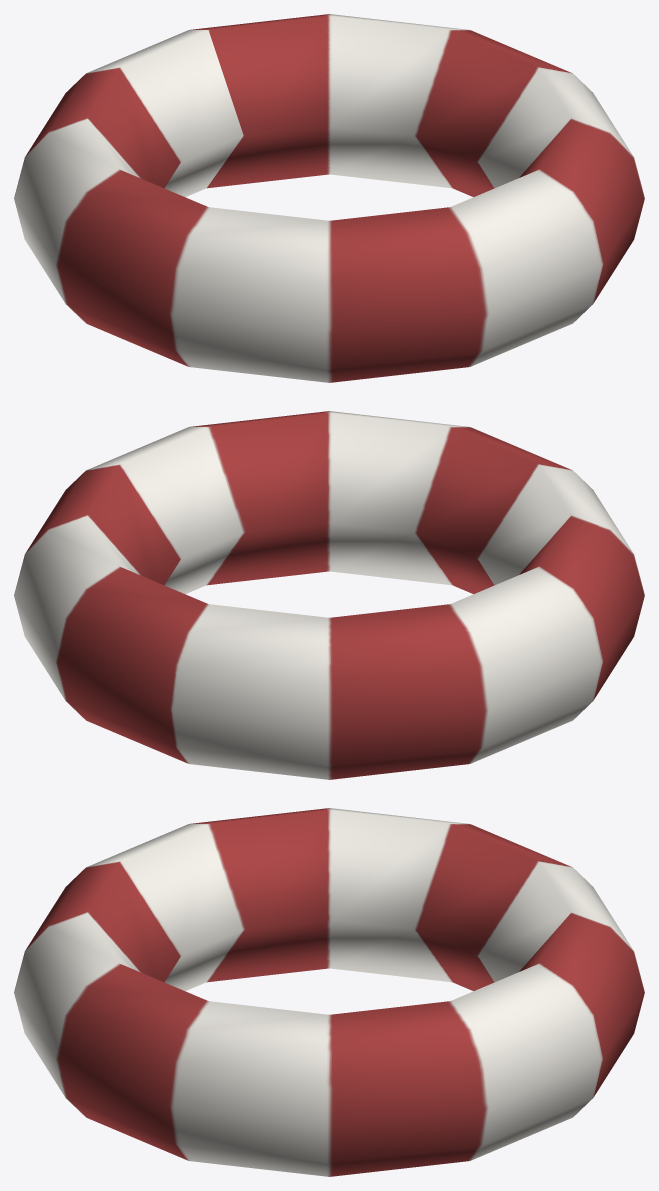
Rendered from swimmingring.fbx.
The picture shows the model from 3 angles, top to bottom: view 1: azimuth 30°, elevation 25°; view 2: azimuth 150°, elevation 25°; view 3: azimuth 270°, elevation 25°; orthographic projection.
Parts seen in each view (by area): view 1: swimring; view 2: swimring; view 3: swimring.
Boxes of the visible parts, x1,y1,x2,y2 form: swimring: (14,14,644,382); swimring: (14,411,644,779); swimring: (14,808,644,1176).
Bounding box in the file's own units: 143 × 39.82 × 143.
Materials: 1 (1 with a texture image).
